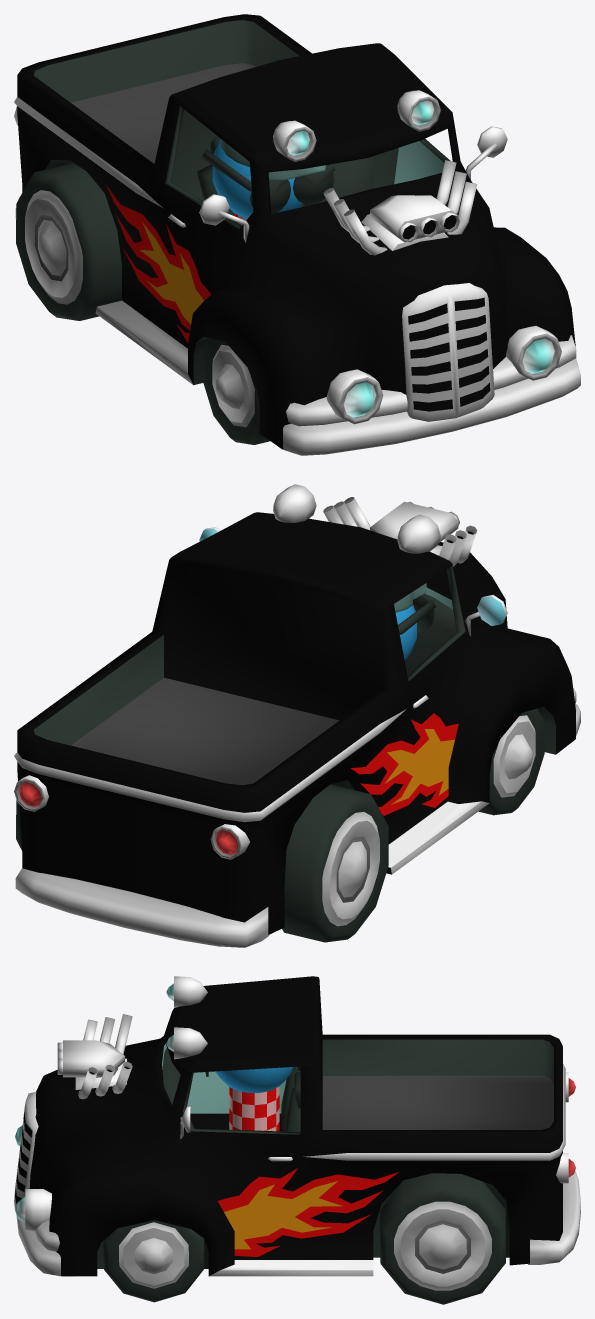
The model's file is pickup.fbx.
3 views of the same model, one above another, from view 1: azimuth 30°, elevation 25°; view 2: azimuth 150°, elevation 25°; view 3: azimuth 270°, elevation 25° (orthographic). The views are drawn at different scales.
Parts seen in each view (by area): view 1: Pickup; view 2: Pickup; view 3: Pickup.
Part boxes in pixels (box(x1,y1,x2,y2)): Pickup: box(14, 14, 580, 455); Pickup: box(14, 484, 580, 947); Pickup: box(14, 976, 580, 1304).
Bounding box in the file's own units: 1244 × 1066 × 2265.
